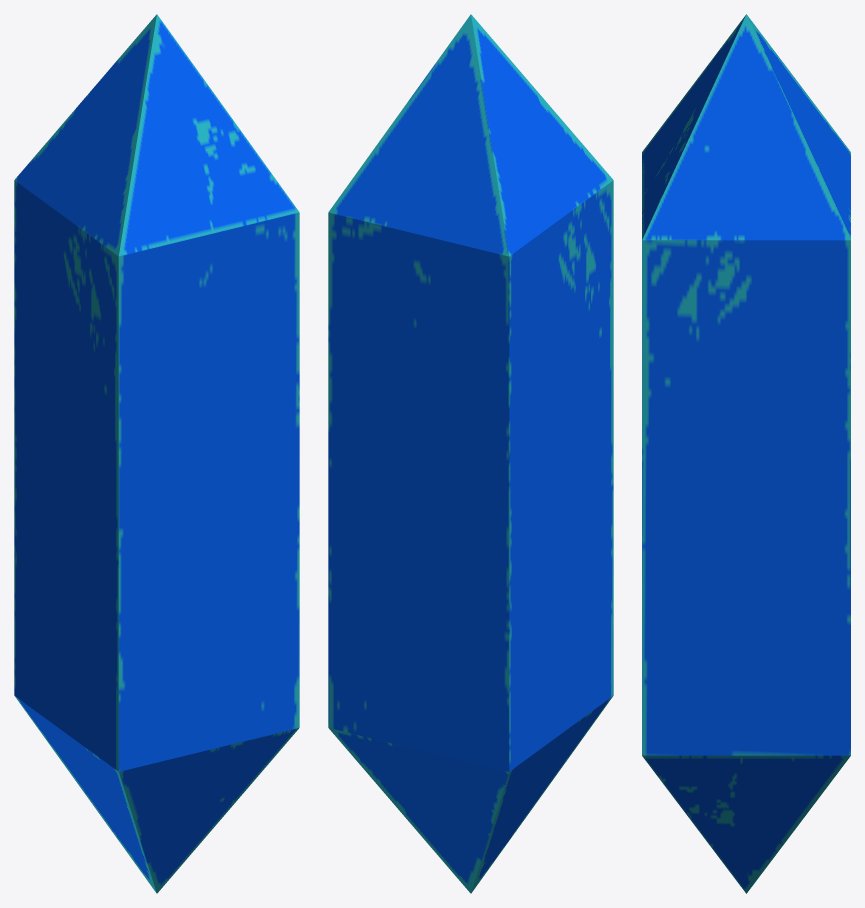
Rendered from Item_Resource_Manastone_01.fbx.
3 views of the same model, side by side, from view 1: azimuth 30°, elevation 25°; view 2: azimuth 150°, elevation 25°; view 3: azimuth 270°, elevation 25° (orthographic).
Parts seen in each view (by area): view 1: Item_Resource_Manastone_01; view 2: Item_Resource_Manastone_01; view 3: Item_Resource_Manastone_01.
Part boxes in pixels (bbox=[...]): Item_Resource_Manastone_01: bbox=[14, 14, 299, 893]; Item_Resource_Manastone_01: bbox=[328, 14, 613, 893]; Item_Resource_Manastone_01: bbox=[642, 14, 850, 893].
Size of the model in its own units: 25.56 by 119 by 25.56.
